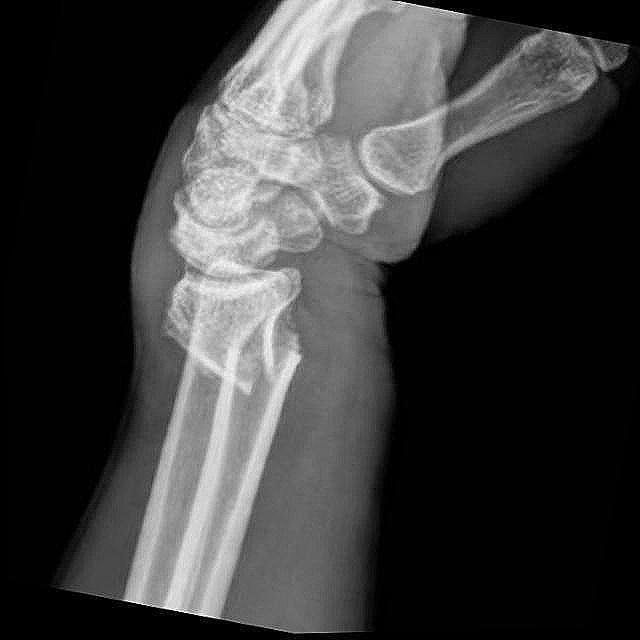bone: (152, 268, 323, 400)
